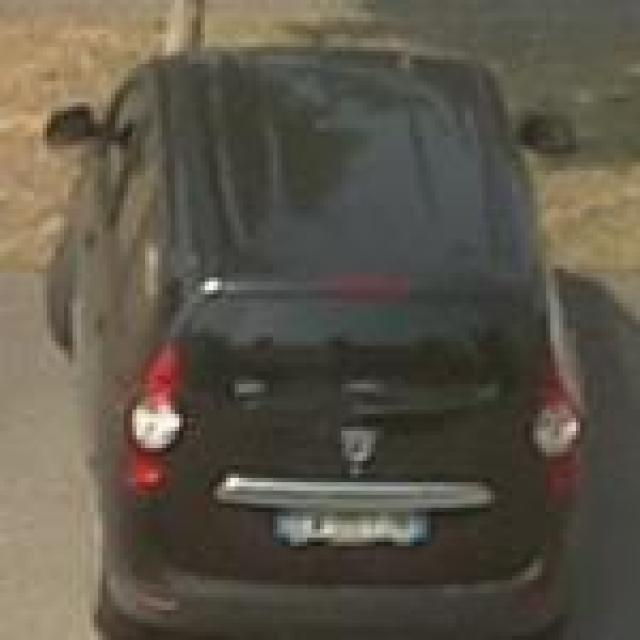cars-sUYr: (14, 29, 618, 640)
